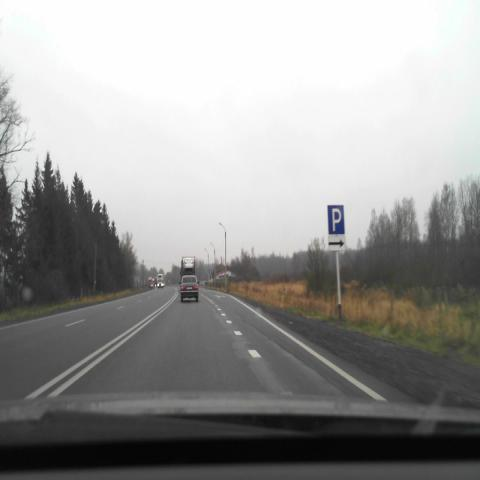8_3_1: (328, 235, 346, 250)
